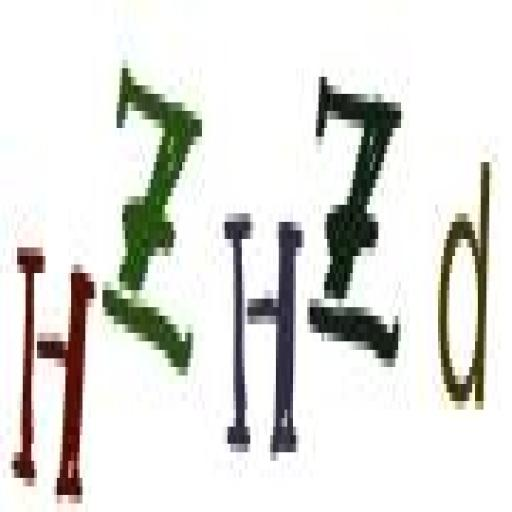H: (216, 180, 309, 475), (9, 217, 102, 511)
Z: (98, 34, 206, 402), (305, 56, 405, 389)
d: (430, 151, 496, 433)
